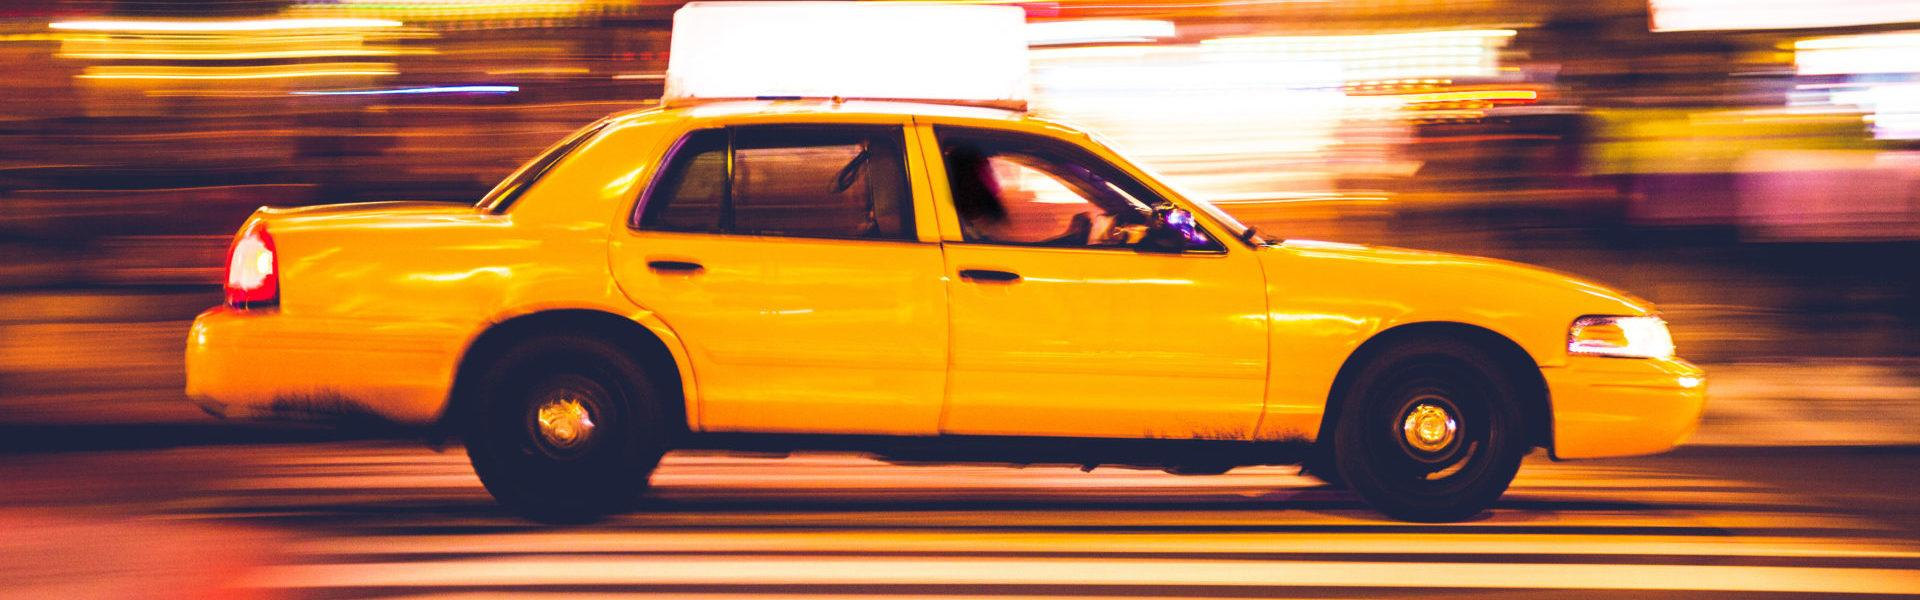taxi: (181, 53, 1747, 562)
